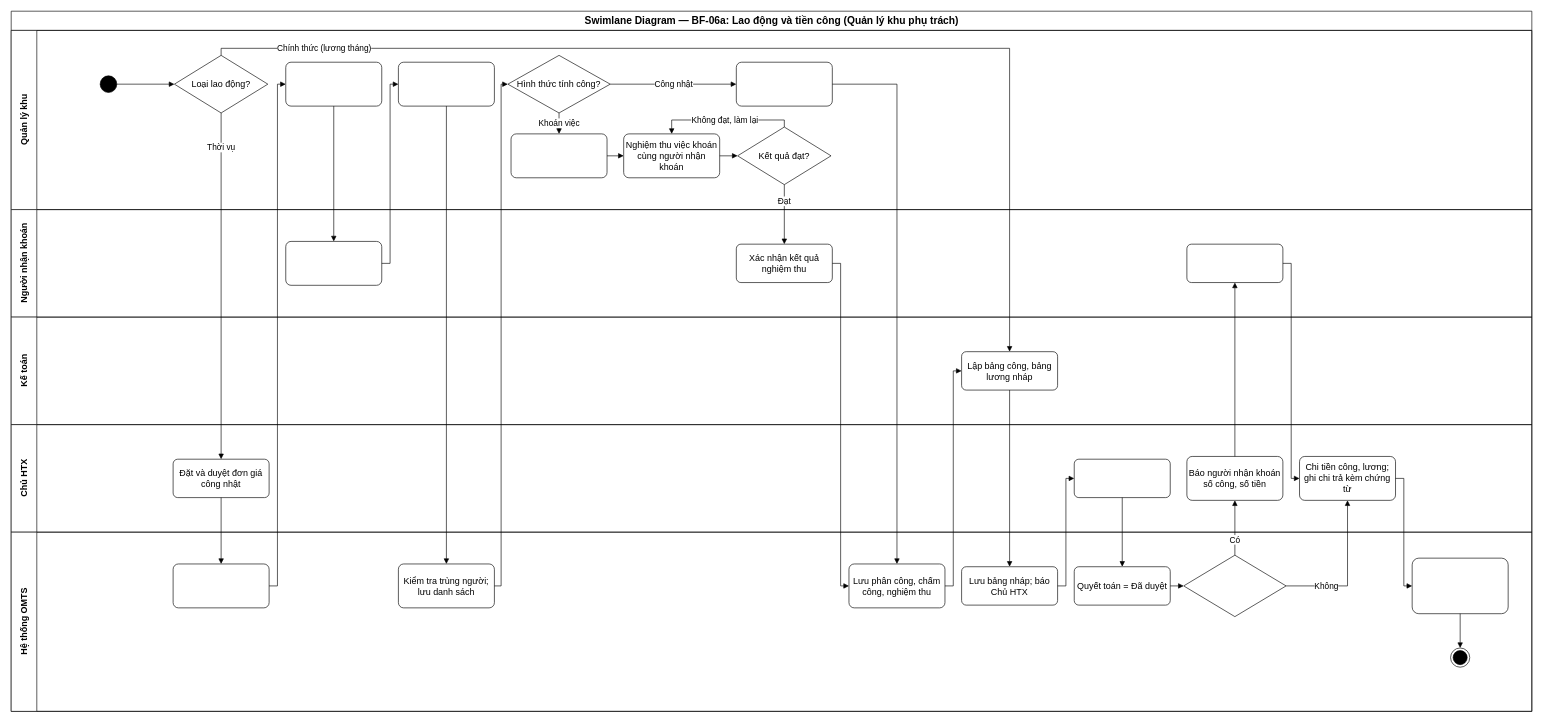
The diagram is 1543 pixels wide and 723 high, and some of its shapes have lost their labels. Here are the shapes that lost their labels. From the top down, the centre of each, then its label:
(x=333, y=84): Báo người nhận khoán đơn giá công nhật
(x=446, y=84): Ghi danh sách lao động, người nhận khoán
(x=784, y=84): Chấm công từng người: cả ngày / nửa ngày
(x=558, y=155): Giao khoán việc: mô tả, số tiền khoán
(x=333, y=263): Thống nhất đơn giá, huy động người làm
(x=1234, y=263): Xác nhận số công, số tiền
(x=1122, y=478): Rà, sửa và duyệt bảng
(x=220, y=585): Lưu đơn giá; trạng thái = Đã duyệt
(x=1234, y=586): Trả qua người nhận khoán?
(x=1460, y=586): Lưu khoản chi; quyết toán = Đã chi đủ; nhân viên xem được lương
